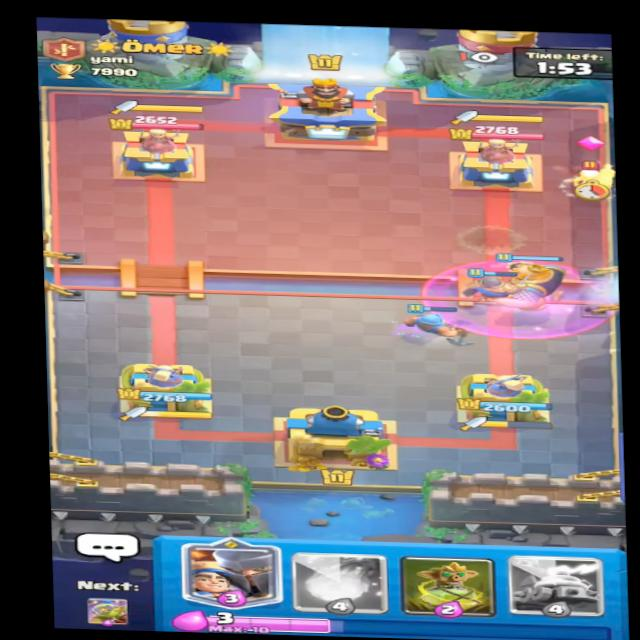firecracker: (560, 156, 619, 199)
rage: (417, 257, 607, 342)
